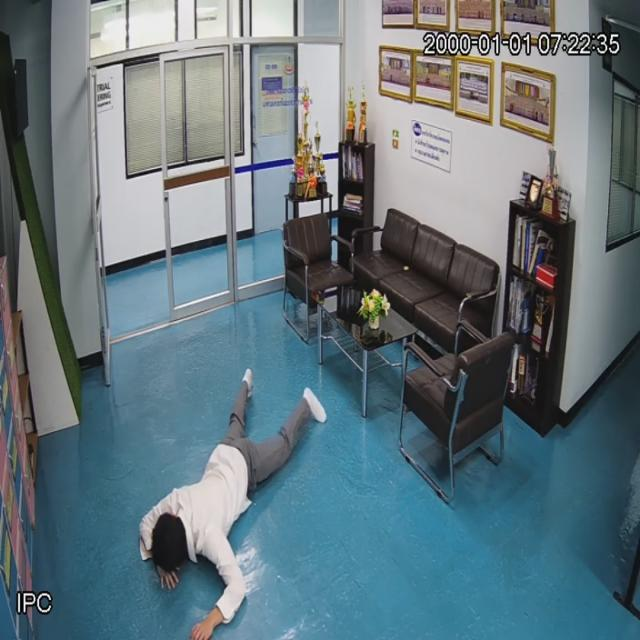fall: (144, 378, 312, 629)
